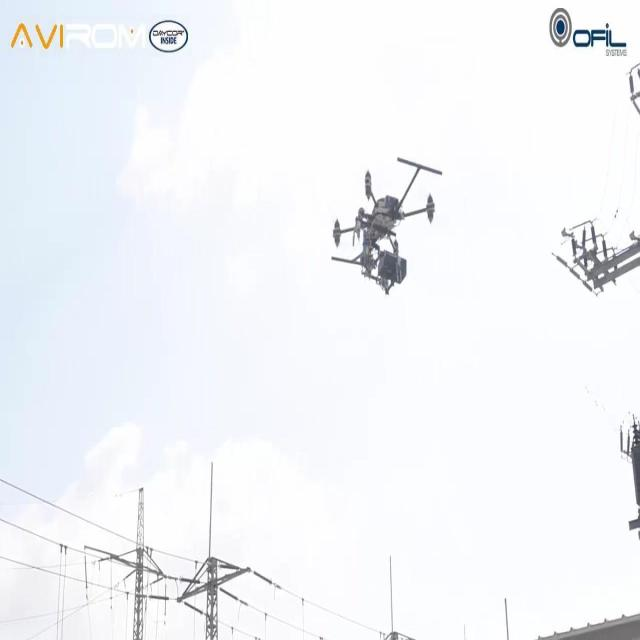drone: (328, 153, 445, 299)
